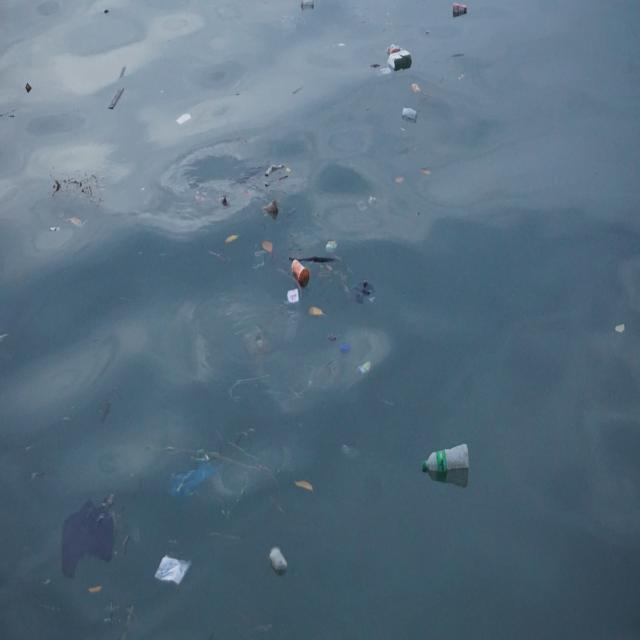Botol Plastik: (420, 440, 474, 484)
Bungkus Makanan: (155, 551, 195, 589)
Bungkus Minuman: (266, 542, 290, 583), (289, 255, 314, 291)
Kantong Plastik: (60, 497, 121, 583), (352, 276, 376, 309)
